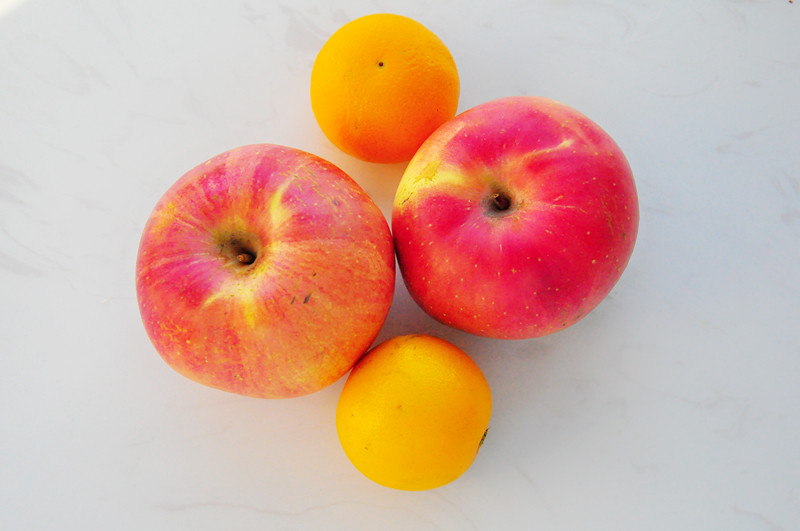apple: (139, 143, 396, 402), (399, 100, 647, 340)
orange: (307, 12, 465, 165), (344, 334, 495, 488)
